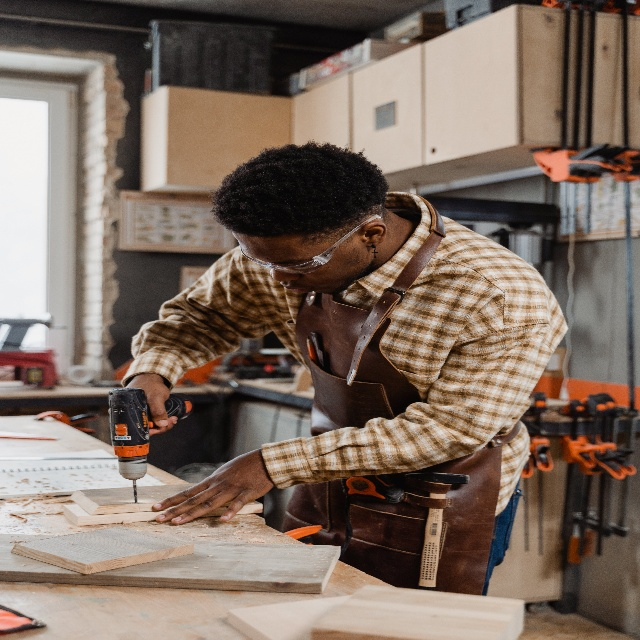Gafas: (238, 245, 329, 272)
Sin_guantes: (152, 444, 265, 532), (128, 377, 177, 434)
